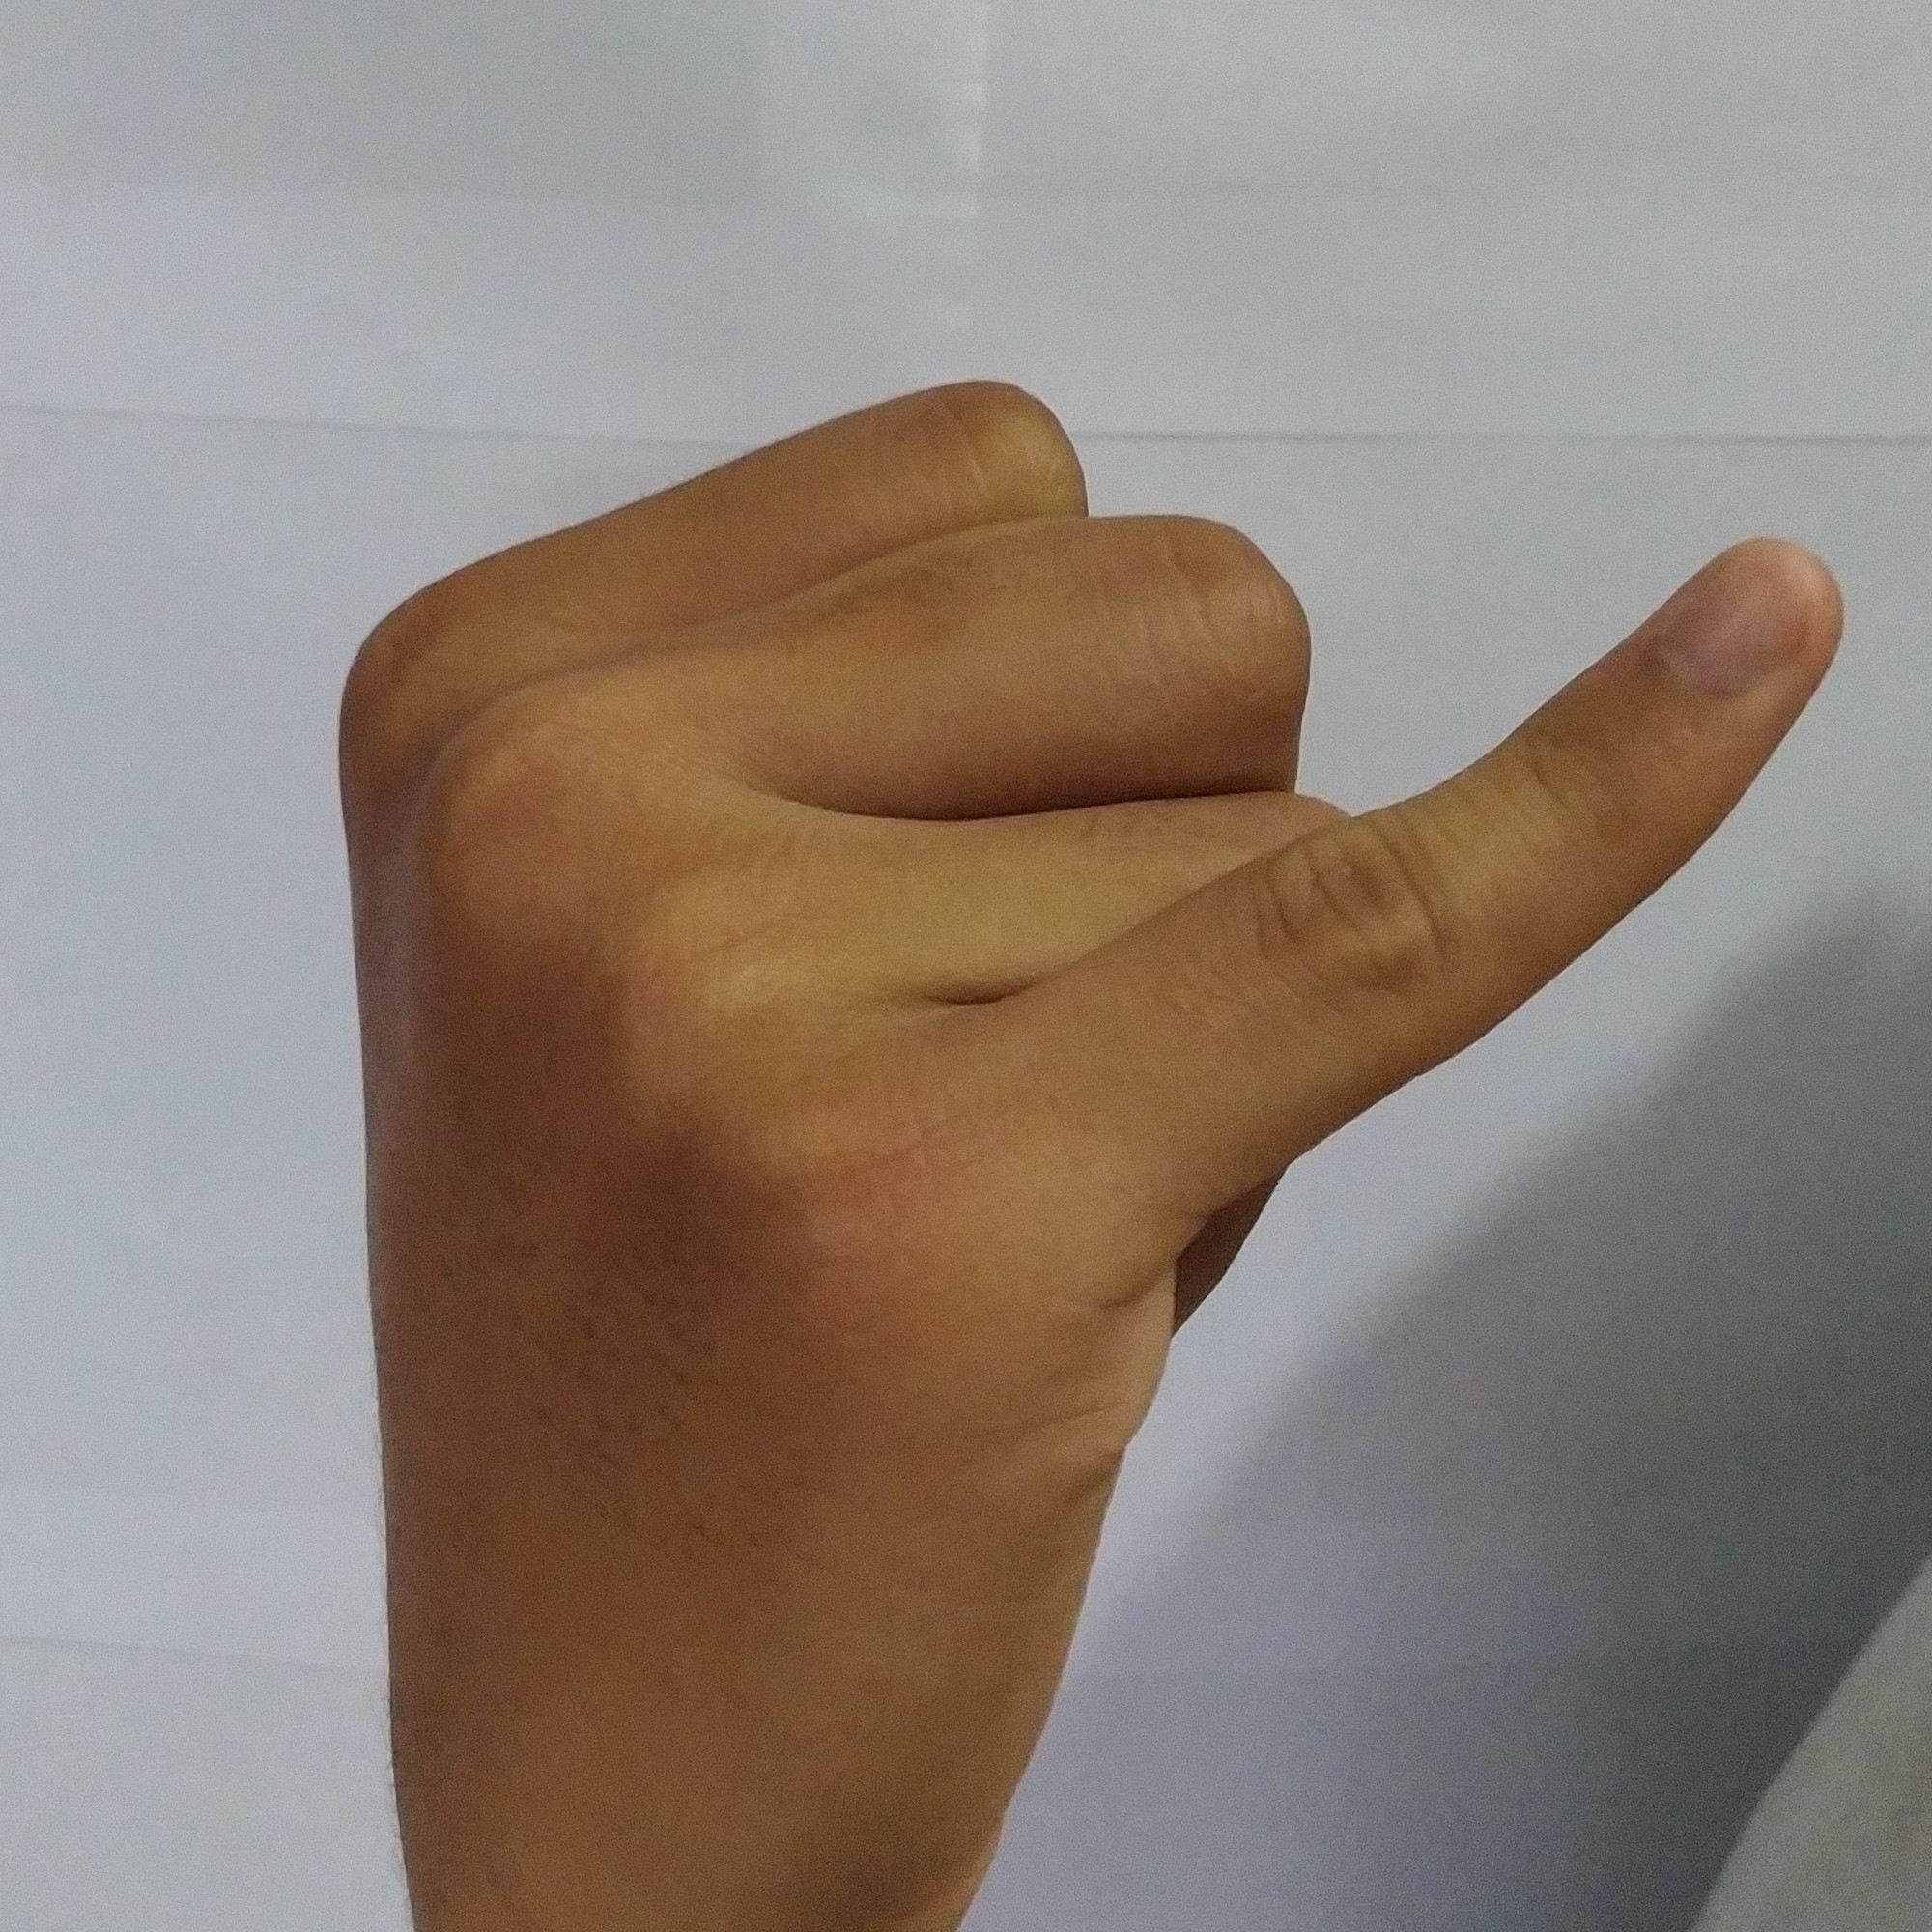J: (287, 350, 1868, 1877)
